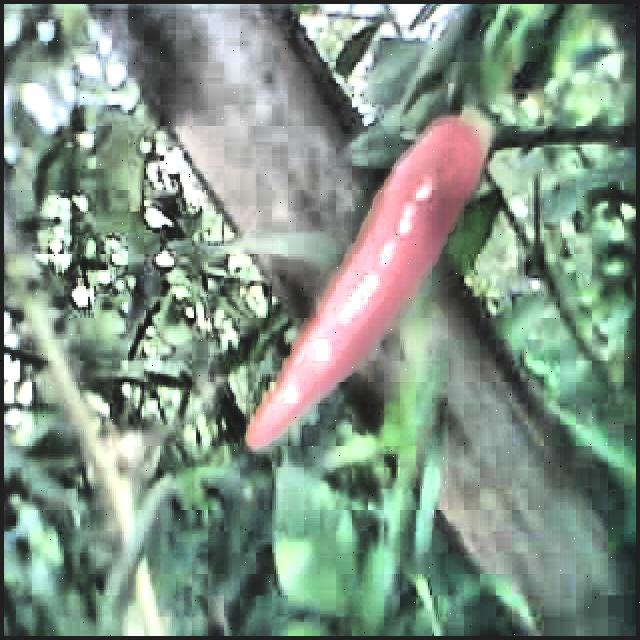Cabai: (227, 91, 493, 467)
